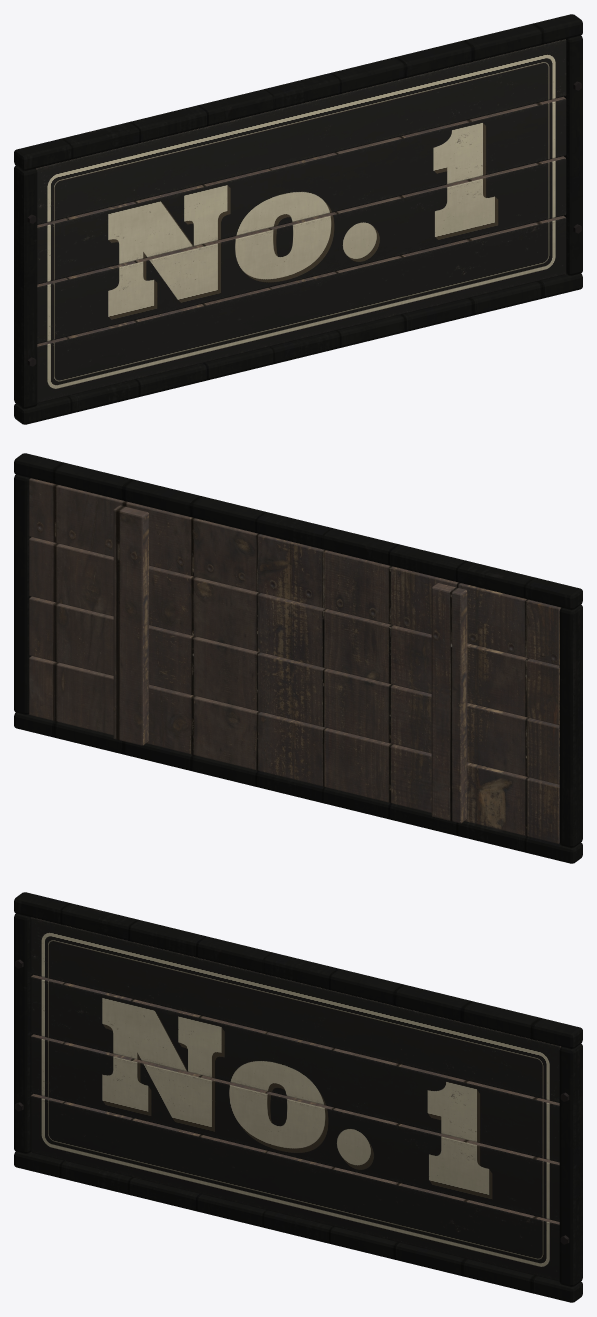
Rendered from gate-board-no-1.glb.
3 renders of one model, top to bottom at view 1: azimuth 30°, elevation 25°; view 2: azimuth 150°, elevation 25°; view 3: azimuth 330°, elevation 25°, orthographic.
Parts seen in each view (by area): view 1: gate-board-no-1; view 2: gate-board-no-1; view 3: gate-board-no-1.
Boxes of the visible parts, bbox=[...] form: gate-board-no-1: bbox=[14, 14, 582, 424]; gate-board-no-1: bbox=[14, 453, 582, 863]; gate-board-no-1: bbox=[14, 892, 582, 1302].
Size of the model in its own units: 1.48 by 0.68 by 0.0857.
Materials: 4 (4 with a texture image).
